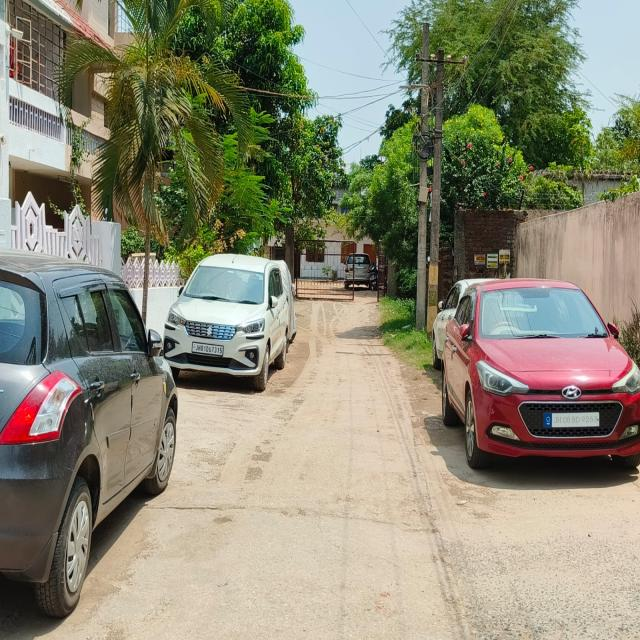bike: (369, 262, 379, 291)
car: (0, 238, 182, 625), (437, 264, 640, 493), (163, 241, 300, 403), (427, 274, 465, 372), (344, 250, 372, 290)
